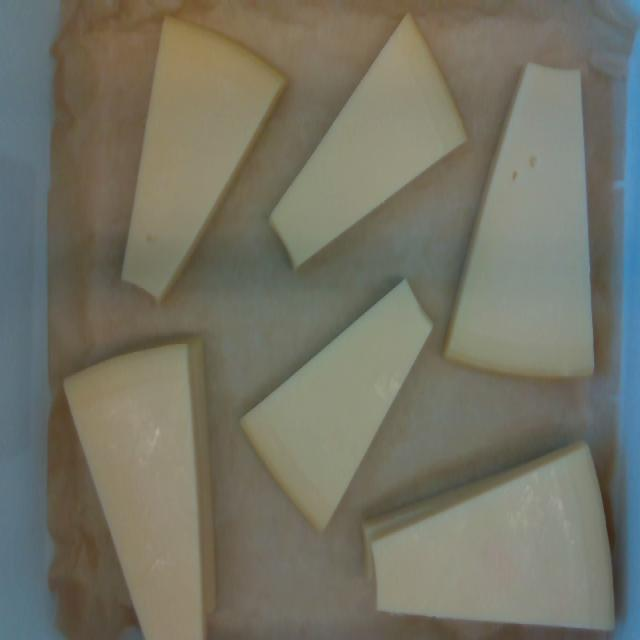Cheese: (271, 16, 464, 265), (242, 281, 430, 528), (446, 65, 592, 377), (123, 20, 283, 299), (374, 444, 613, 629), (65, 346, 203, 639)
